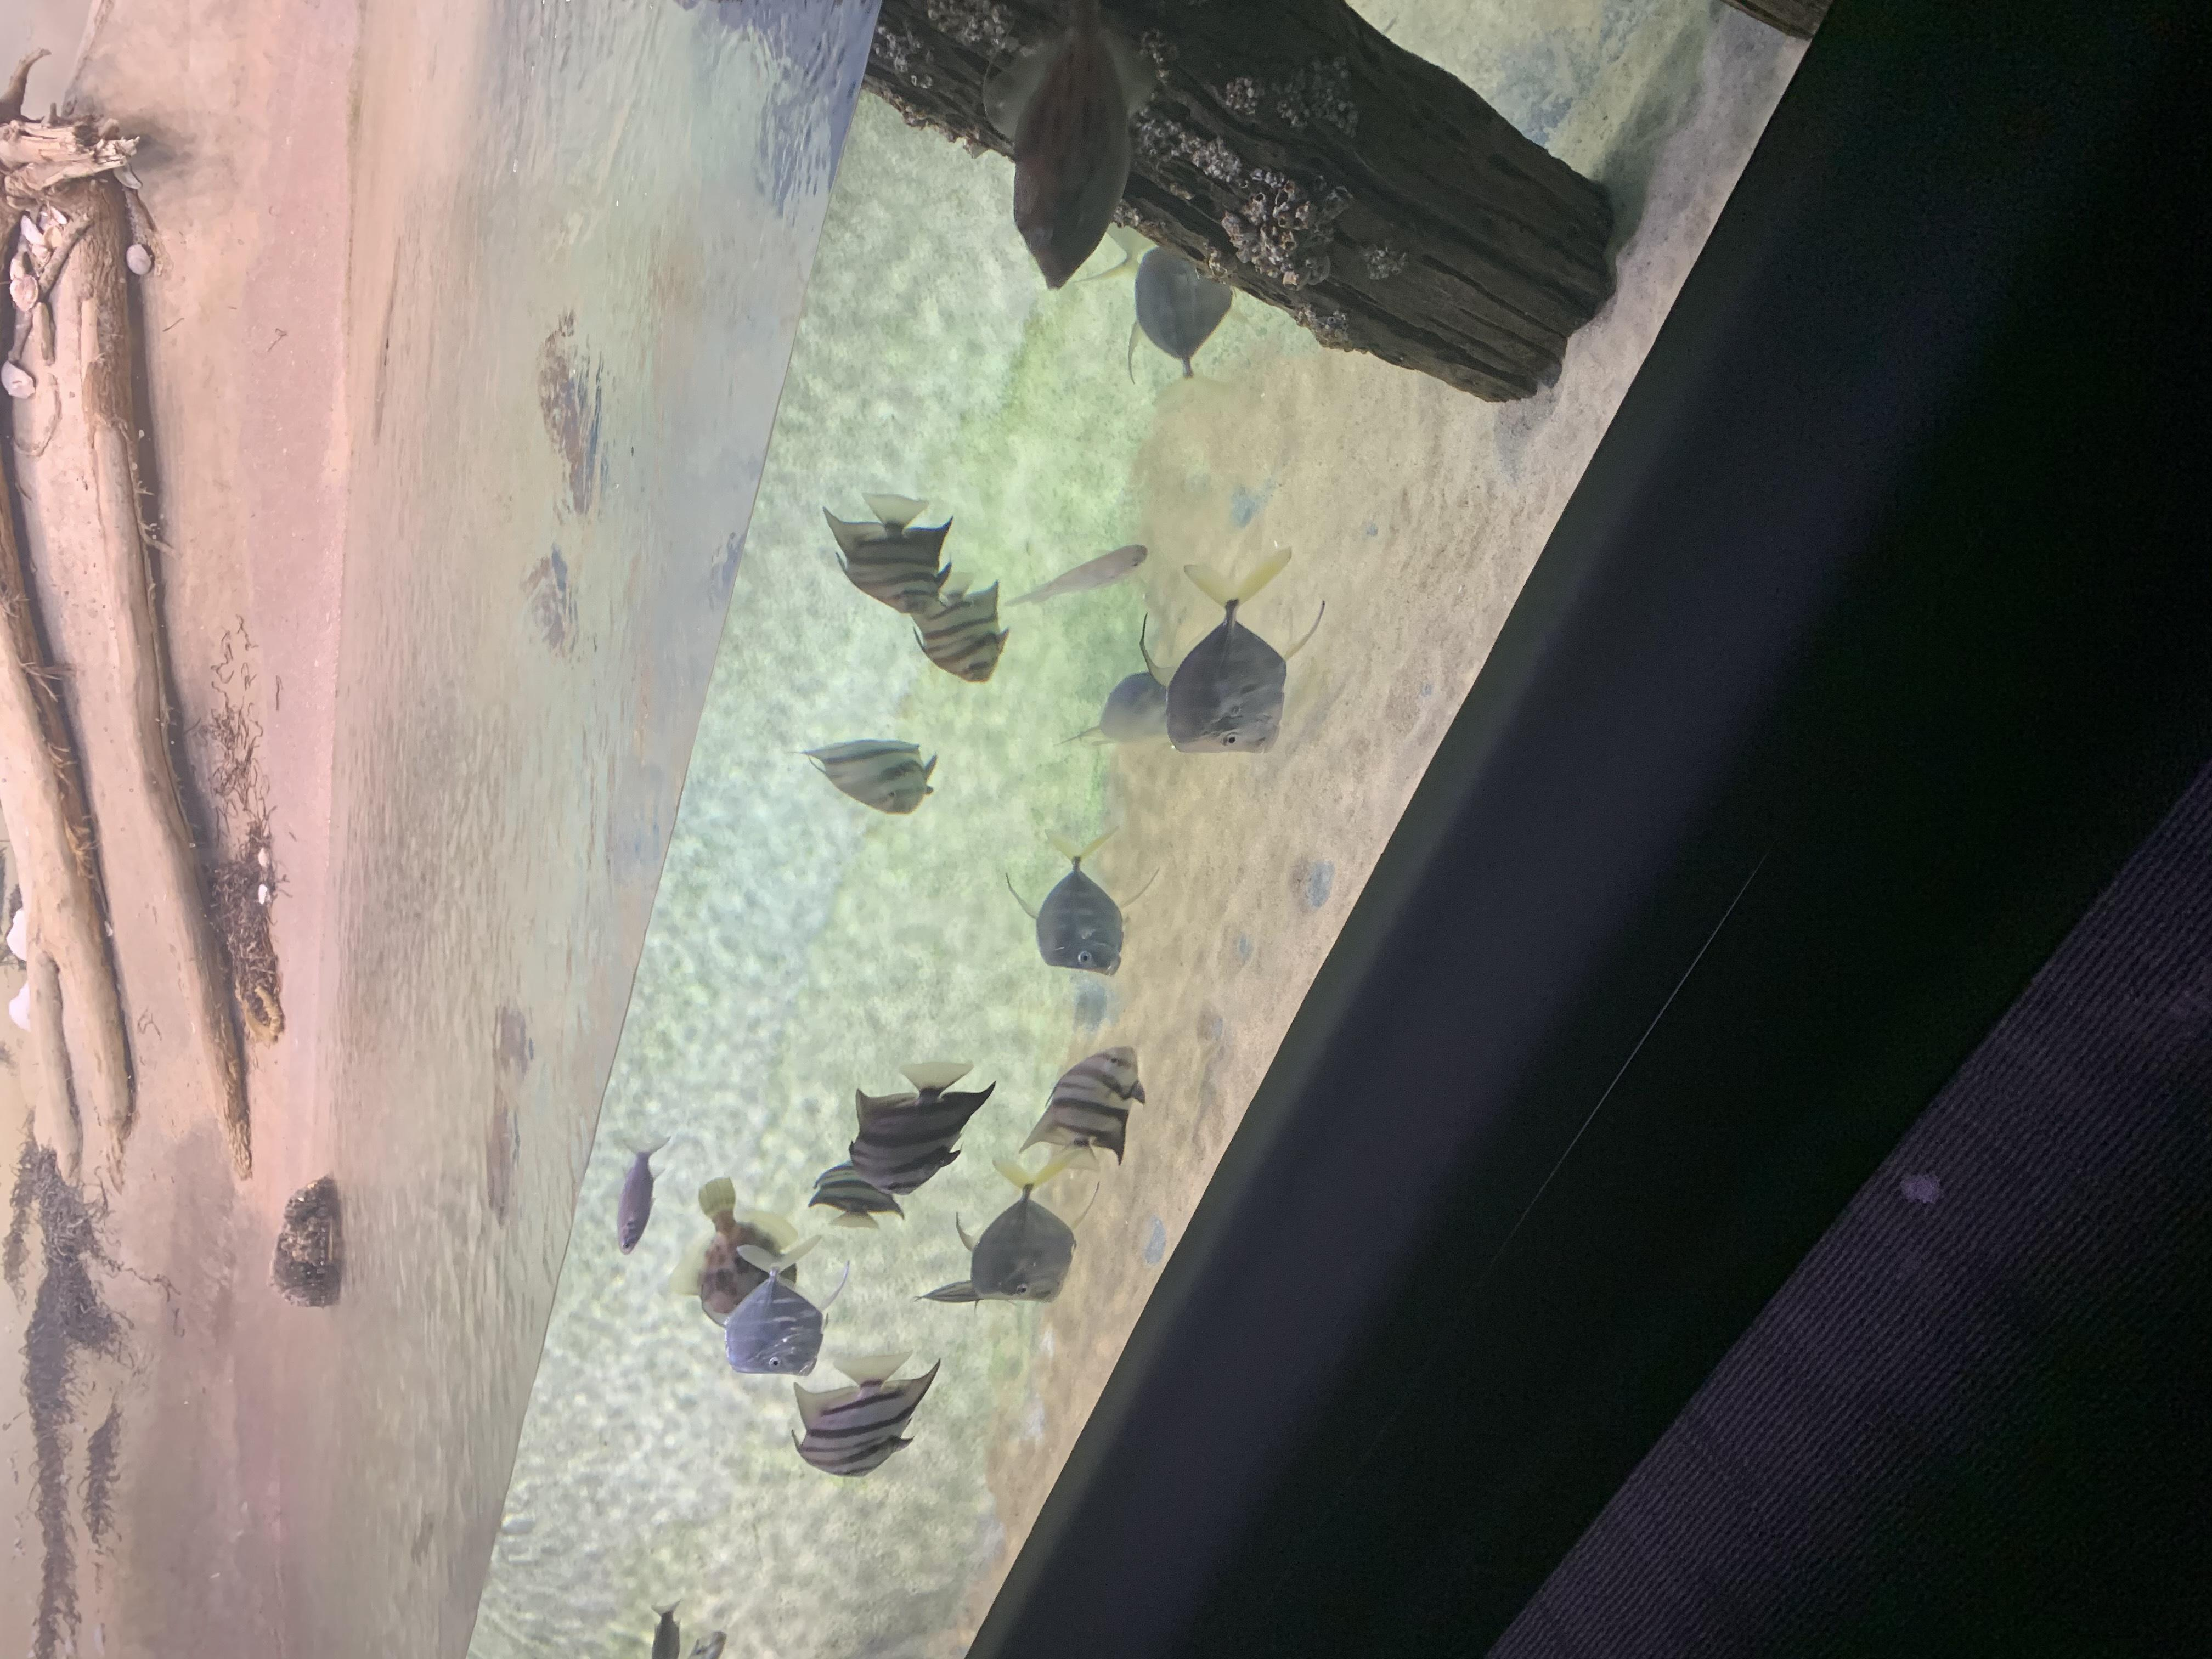fish: (982, 7, 1160, 296), (1134, 537, 1331, 760), (1001, 814, 1162, 981), (946, 1147, 1096, 1314), (782, 1338, 948, 1486), (846, 1053, 998, 1202), (1125, 234, 1259, 399), (714, 1230, 848, 1384), (819, 488, 965, 624), (678, 1171, 798, 1330), (1021, 1037, 1151, 1180), (899, 561, 1015, 690), (794, 727, 944, 824), (1062, 657, 1191, 760), (1001, 538, 1153, 620), (1068, 173, 1167, 295), (608, 1124, 676, 1256), (806, 1154, 909, 1236), (911, 1276, 1038, 1316)
